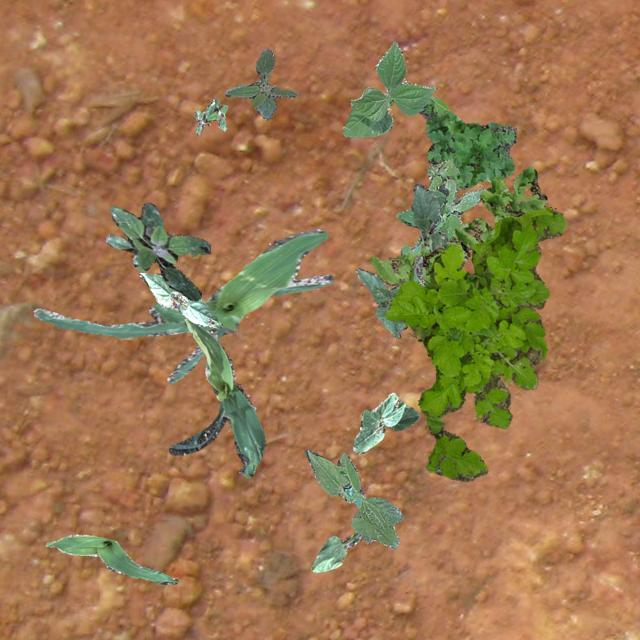crop: (32, 226, 332, 384), (168, 318, 264, 477), (304, 448, 402, 548), (342, 41, 434, 136), (44, 534, 178, 584), (138, 270, 222, 328), (310, 508, 372, 572), (352, 392, 418, 452), (354, 268, 406, 336), (411, 182, 446, 250), (412, 254, 424, 286)
weed: (383, 205, 564, 480), (368, 166, 546, 286), (104, 202, 210, 300), (418, 94, 516, 188), (396, 158, 486, 254), (223, 48, 296, 120), (194, 98, 226, 134)
